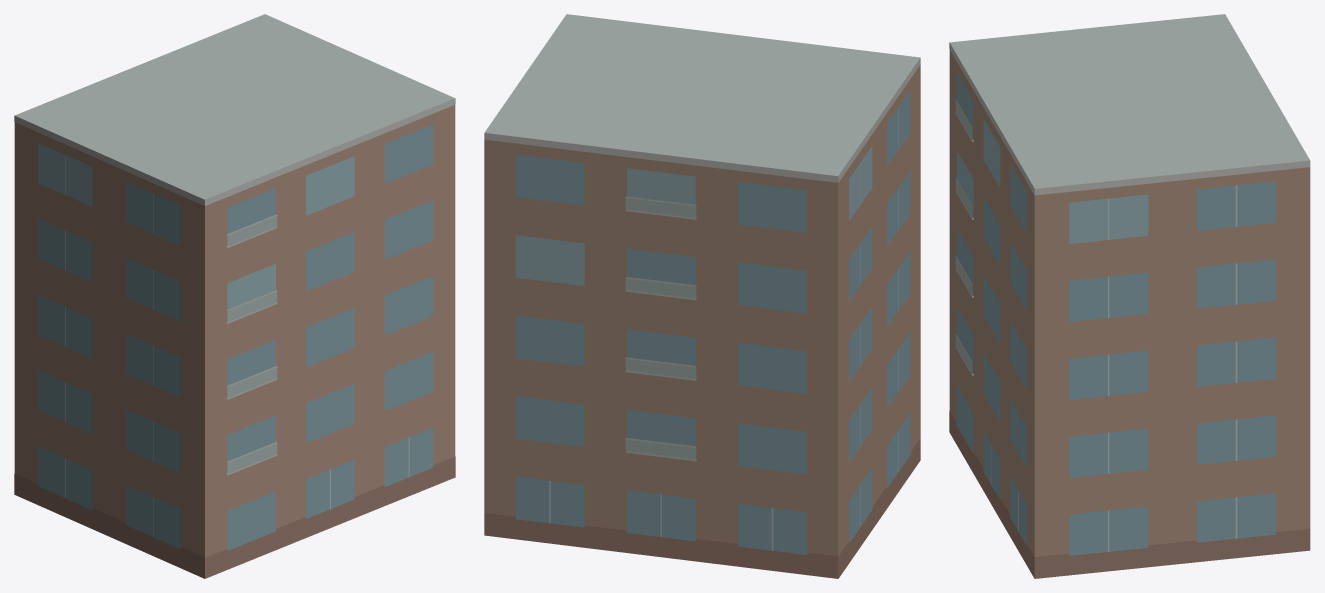
The model's file is survey-upis-32718626.glb.
3 renders of one model, left to right at view 1: azimuth 30°, elevation 25°; view 2: azimuth 150°, elevation 25°; view 3: azimuth 270°, elevation 25°, orthographic. The views are drawn at different scales.
Visible parts, largest first — view 1: survey-upis-32718626.tmp; view 2: survey-upis-32718626.tmp; view 3: survey-upis-32718626.tmp.
Boxes of the visible parts, x1,y1,x2,y2 form: survey-upis-32718626.tmp: [14, 14, 455, 578]; survey-upis-32718626.tmp: [484, 14, 920, 578]; survey-upis-32718626.tmp: [949, 14, 1310, 578].
Size of the model in its own units: 14.01 by 14.55 by 12.21.
